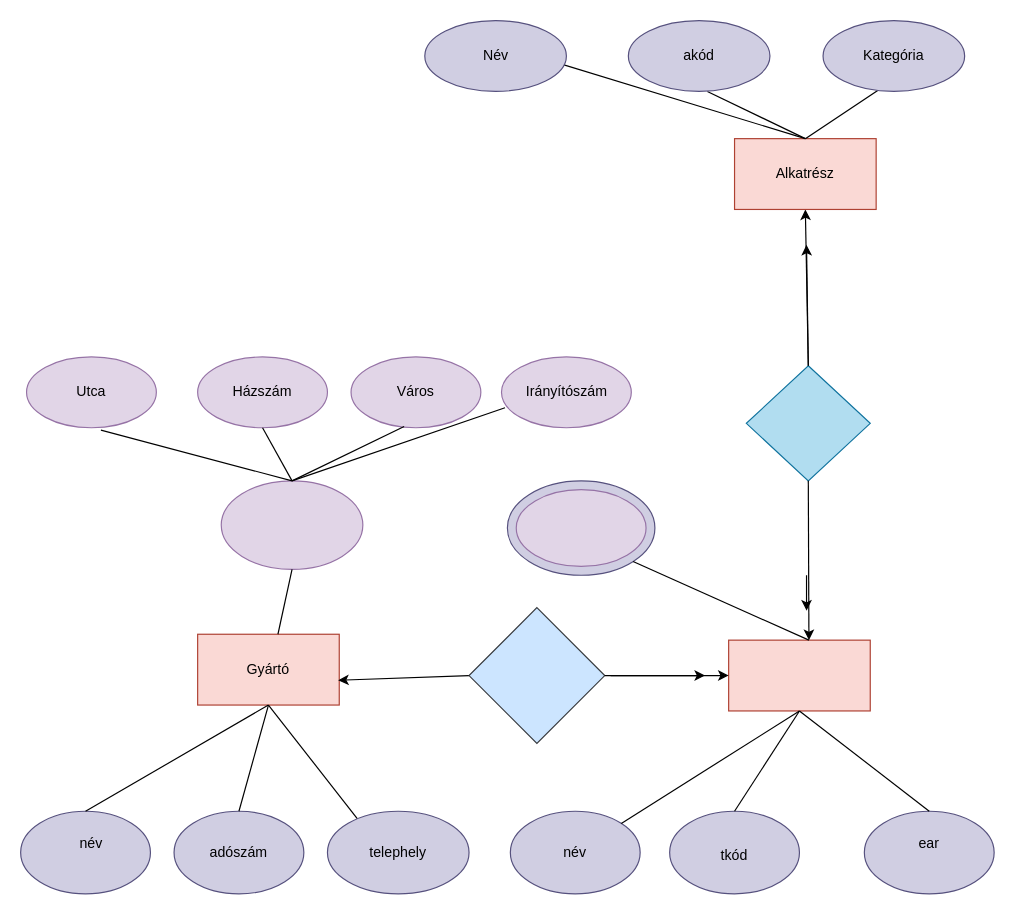
Some shapes in this 1015 by 914 pixel diagram are drawn without their labels. Each missing label, with the centre of its shape:
egység_db: [580,527]
Gyártás: [536,675]
Postai cím: [291,524]
Termék: [798,675]
Összerakás: [807,423]
